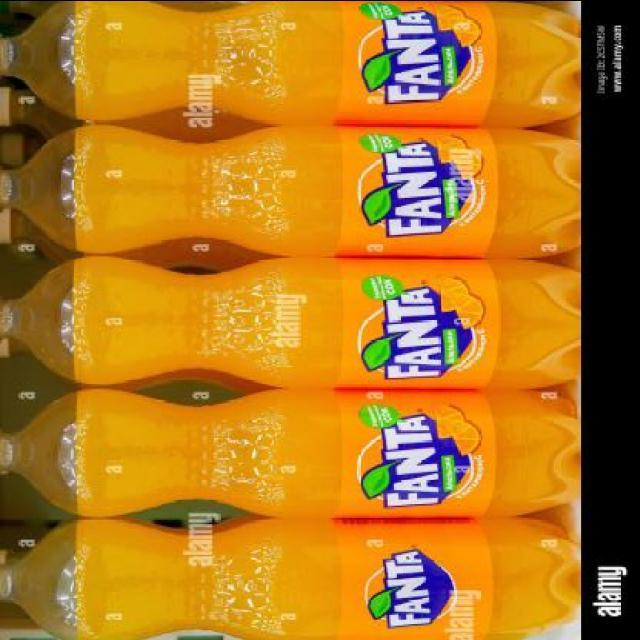Fanta: (4, 253, 582, 392), (8, 386, 578, 519), (8, 127, 580, 253), (16, 0, 584, 123), (6, 516, 582, 636)
